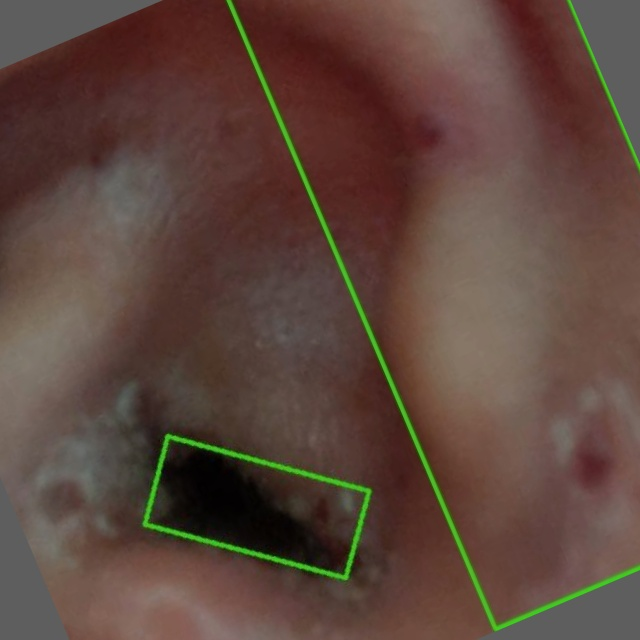Contact Dermatitis: (227, 0, 639, 630), (143, 437, 369, 578)
